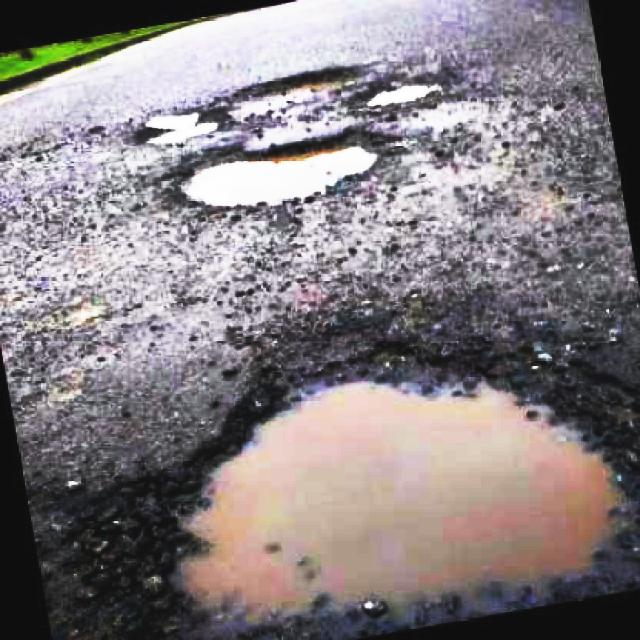pothole: (115, 332, 640, 640), (177, 129, 385, 214), (371, 77, 438, 112)
